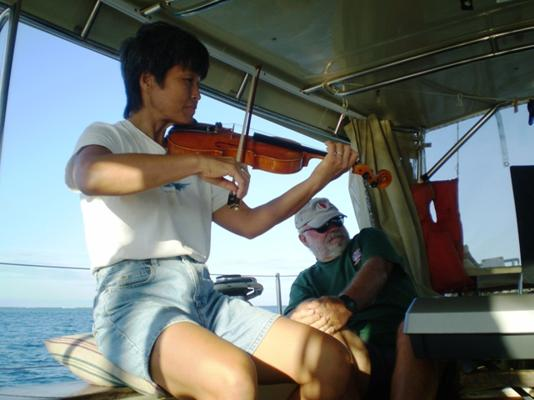person: (65, 22, 363, 400)
